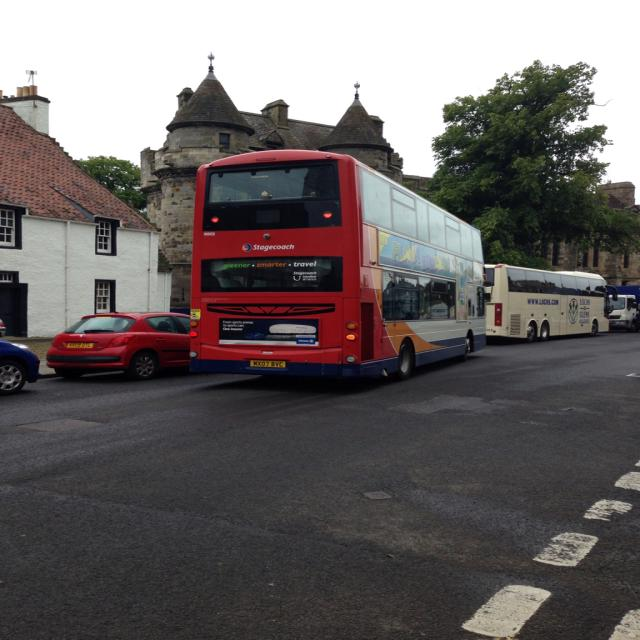Buses: (191, 152, 484, 389), (488, 262, 606, 350)
Passenger Car: (46, 310, 190, 391), (1, 340, 39, 398)
